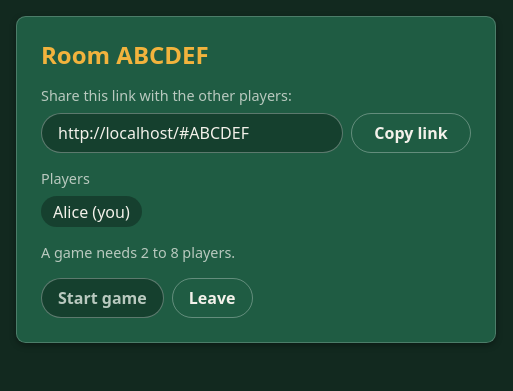
LobbyView › tells the player when copying is not possible
Step 1. Click the button "Copy link" → (411, 133), box [351, 113, 471, 153]
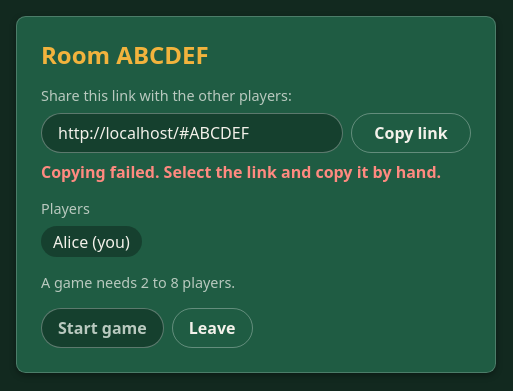
Expected: the text "Copying failed. Select the link and copy it by hand." is shown, [41, 161, 471, 183]
